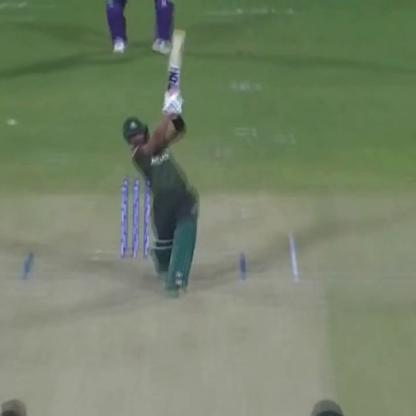ball: (3, 115, 24, 135)
bat: (160, 25, 190, 113)
pitch: (4, 223, 322, 416)
